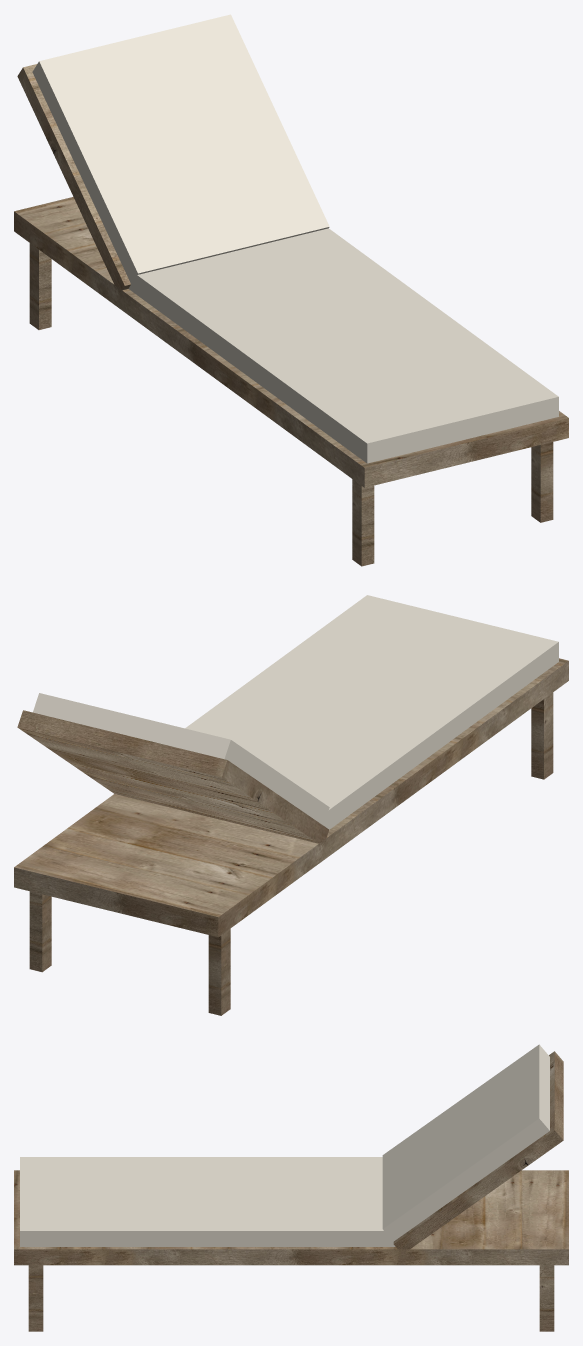
Rendered from lounger.glb.
The picture shows the model from 3 angles, top to bottom: view 1: azimuth 30°, elevation 25°; view 2: azimuth 150°, elevation 25°; view 3: azimuth 270°, elevation 25°; orthographic projection. The views are drawn at different scales.
Visible parts, largest first — view 1: lounger; view 2: lounger; view 3: lounger.
Boxes of the visible parts, x1,y1,x2,y2 form: lounger: [14, 14, 568, 566]; lounger: [14, 595, 568, 1015]; lounger: [14, 1044, 568, 1331].
Bounding box in the file's own units: 0.64 × 0.8053 × 1.9.
2 materials, 1 textured.
